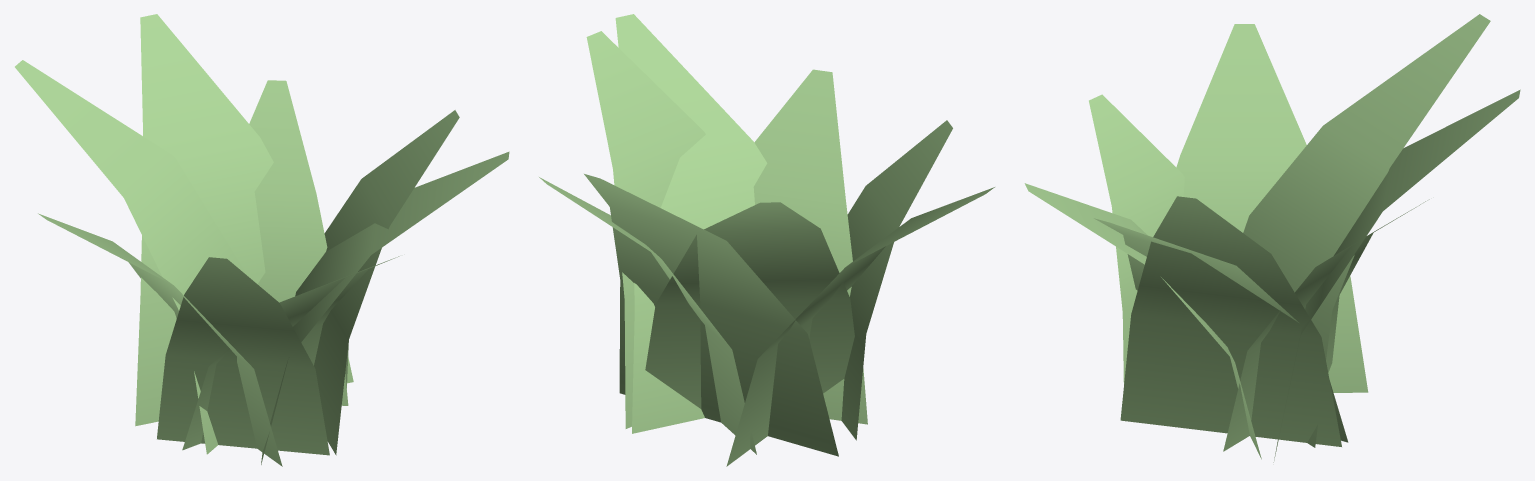
Rendered from grass_tuft_C.glb.
3 renders of one model, left to right at view 1: azimuth 30°, elevation 25°; view 2: azimuth 150°, elevation 25°; view 3: azimuth 270°, elevation 25°, orthographic. The views are drawn at different scales.
Parts seen in each view (by area): view 1: grass_tuft_C; view 2: grass_tuft_C; view 3: grass_tuft_C.
Part boxes in pixels (x1=…): grass_tuft_C: x1=15, y1=14, x2=509, y2=466; grass_tuft_C: x1=539, y1=14, x2=994, y2=466; grass_tuft_C: x1=1024, y1=14, x2=1520, y2=462.
Size of the model in its own units: 0.2996 by 0.2151 by 0.2965.
